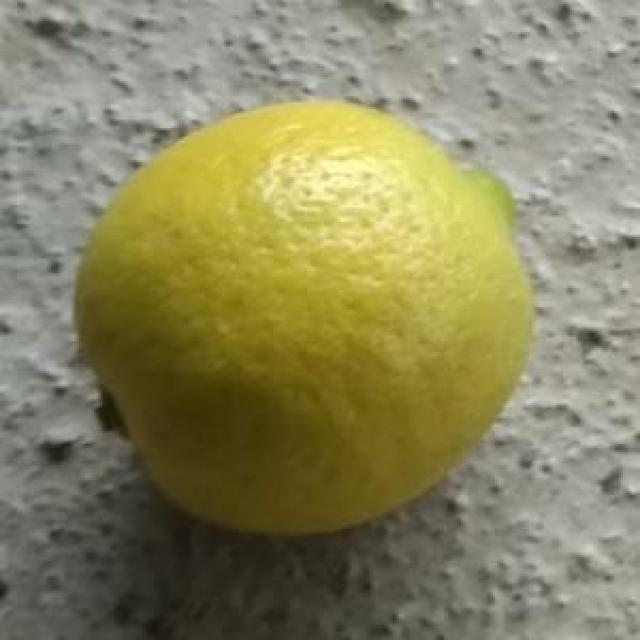lemon: (70, 90, 532, 537)
